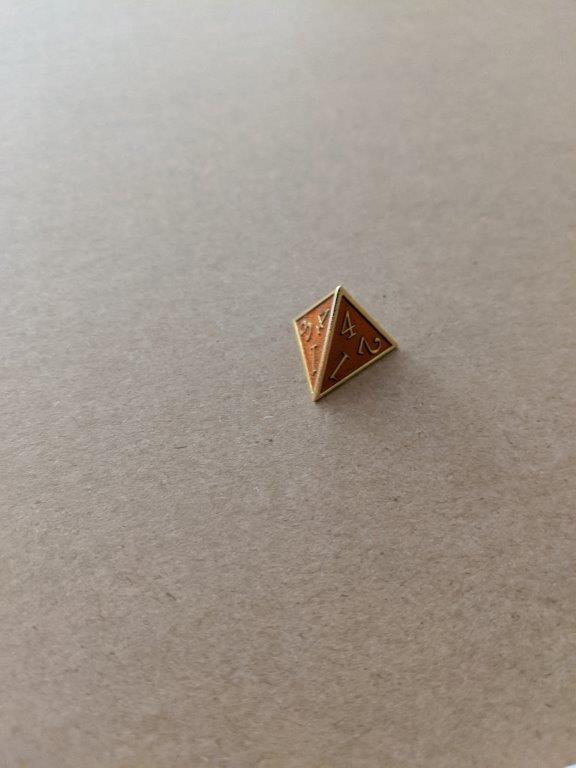d4-4: (290, 283, 402, 405)
